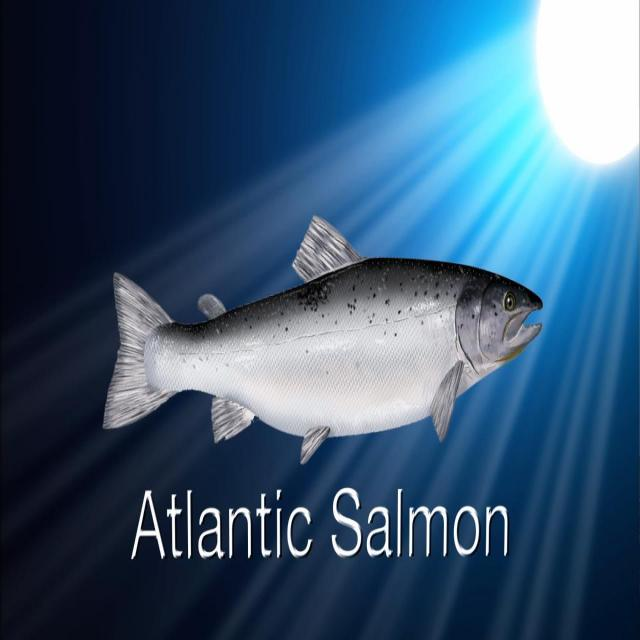salmon: (96, 206, 556, 497)
